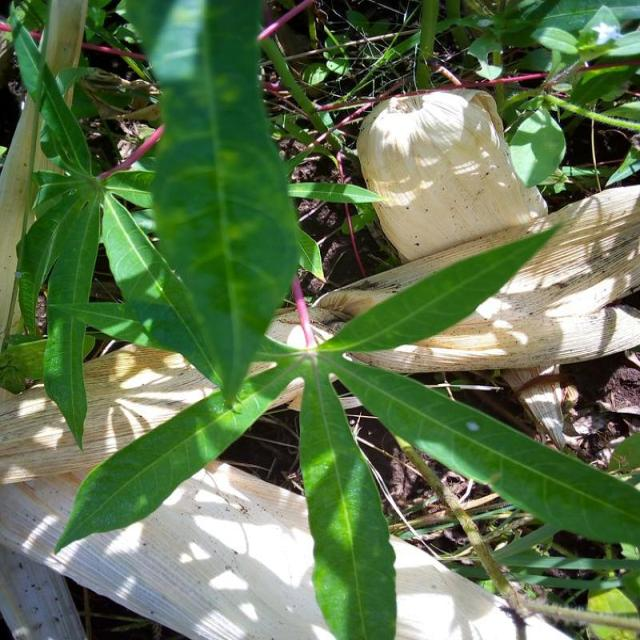cassava leaf: (11, 1, 638, 637), (355, 86, 549, 264)
